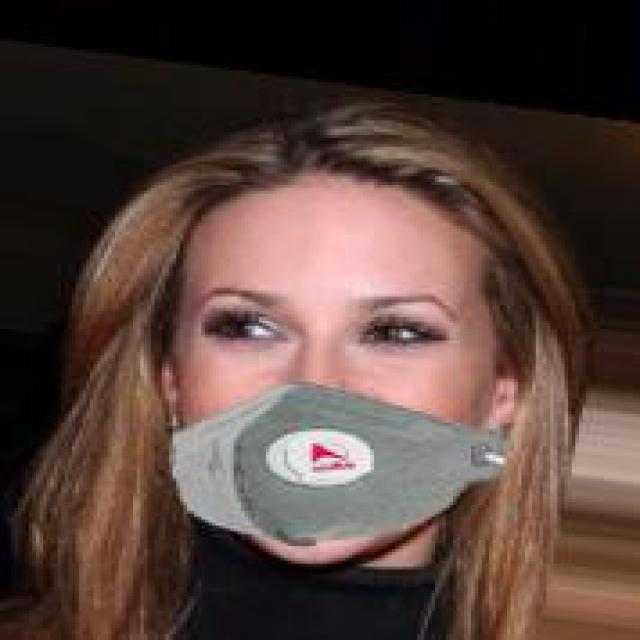mask: (136, 88, 596, 575)
